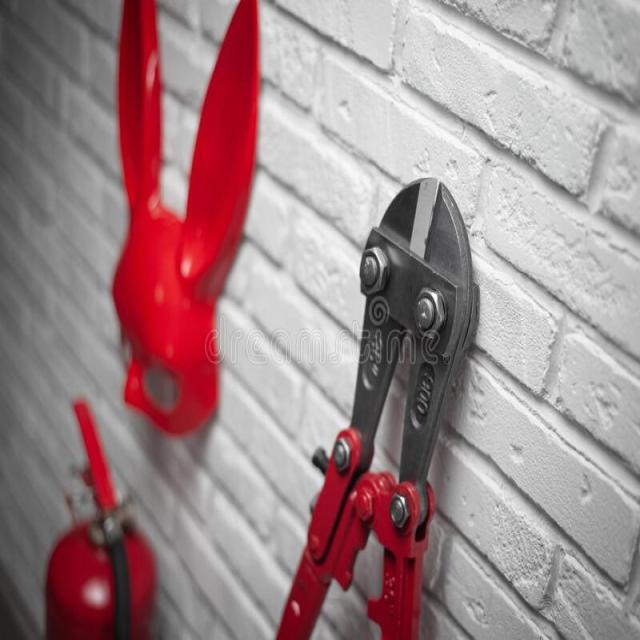fire_extinguisher: (39, 396, 160, 639)
